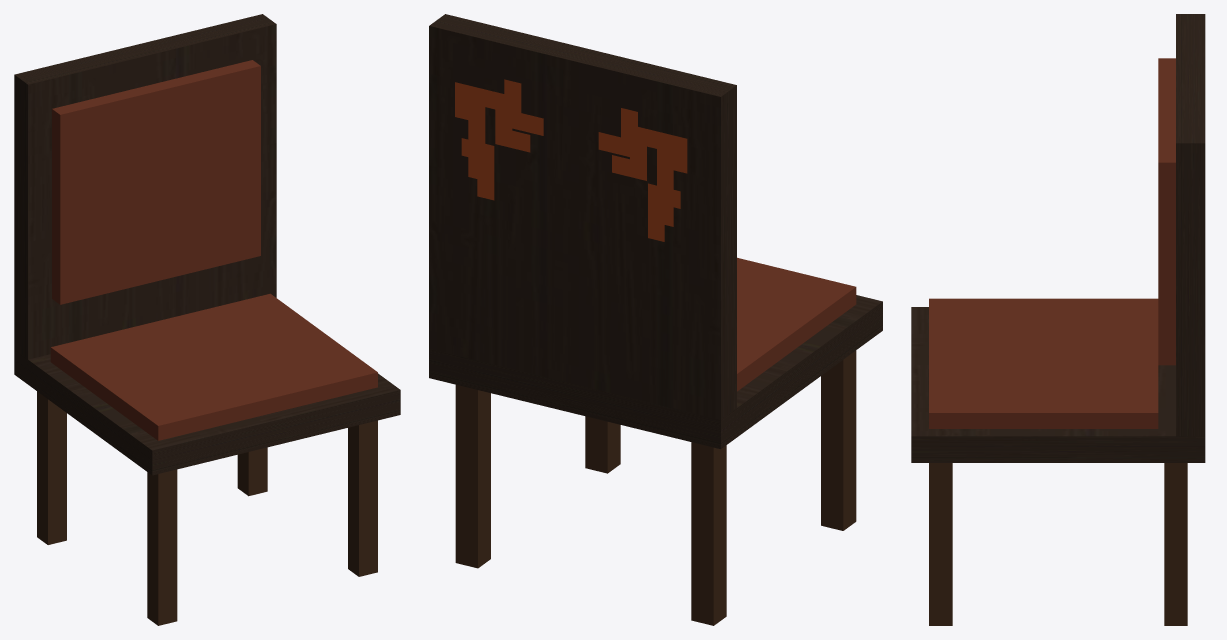
The model's file is reception_chair.glb.
3 renders of one model, left to right at view 1: azimuth 30°, elevation 25°; view 2: azimuth 150°, elevation 25°; view 3: azimuth 270°, elevation 25°, orthographic. The views are drawn at different scales.
Visible parts, largest first — view 1: reception_chair; view 2: reception_chair; view 3: reception_chair.
Boxes of the visible parts, x1,y1,x2,y2 form: reception_chair: (14, 14, 400, 625); reception_chair: (429, 14, 882, 625); reception_chair: (911, 14, 1205, 625).
Size of the model in its own units: 0.52 by 0.92 by 0.512.
4 materials, 1 textured.
